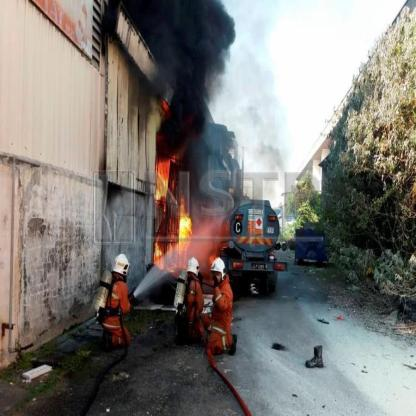fire: (150, 206, 194, 275)
